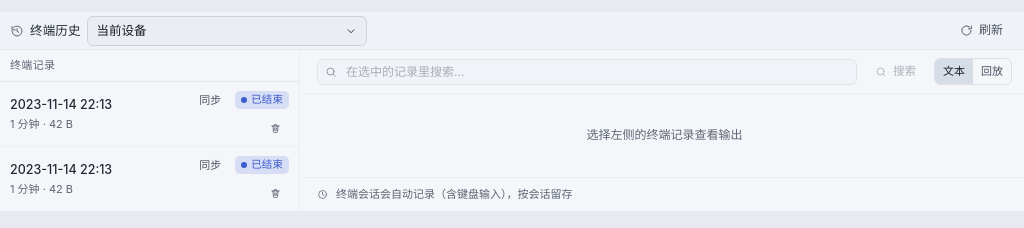
TranscriptHistoryPanel › does not let stale content responses overwrite the newly selected record
This screenshot has width=1024, height=228.
Click the 1st row "2023-11-14 22:13 1 分钟 · 42 B 同步 已结束".
click(150, 114)  # box [0,82,299,147]
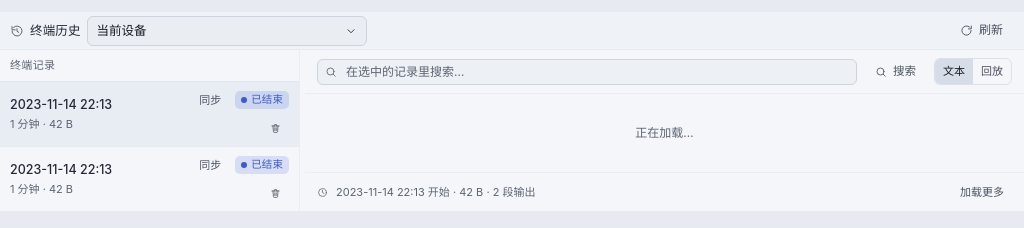
Click the 2nd row "2023-11-14 22:13 1 分钟 · 42 B 同步 已结束".
click(61, 169)  # box [0,147,299,211]
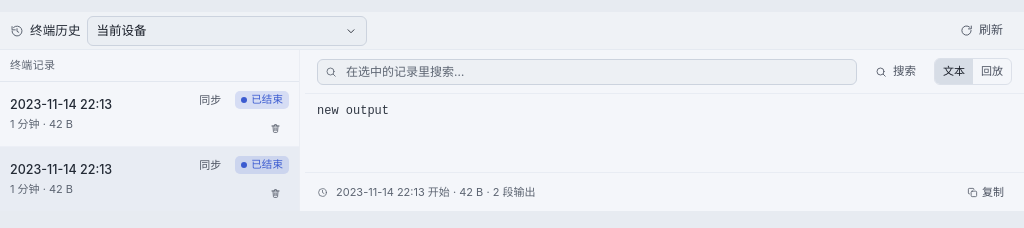
expect the element showing "new output" is shown: met, box [317,104,389,118]
